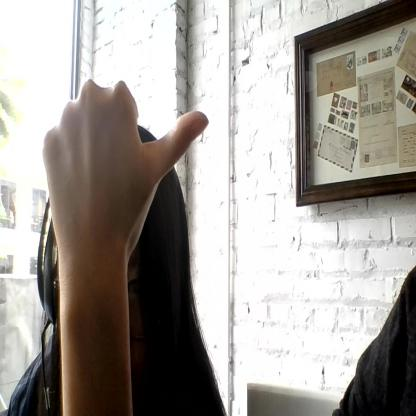left: (42, 78, 209, 252)
